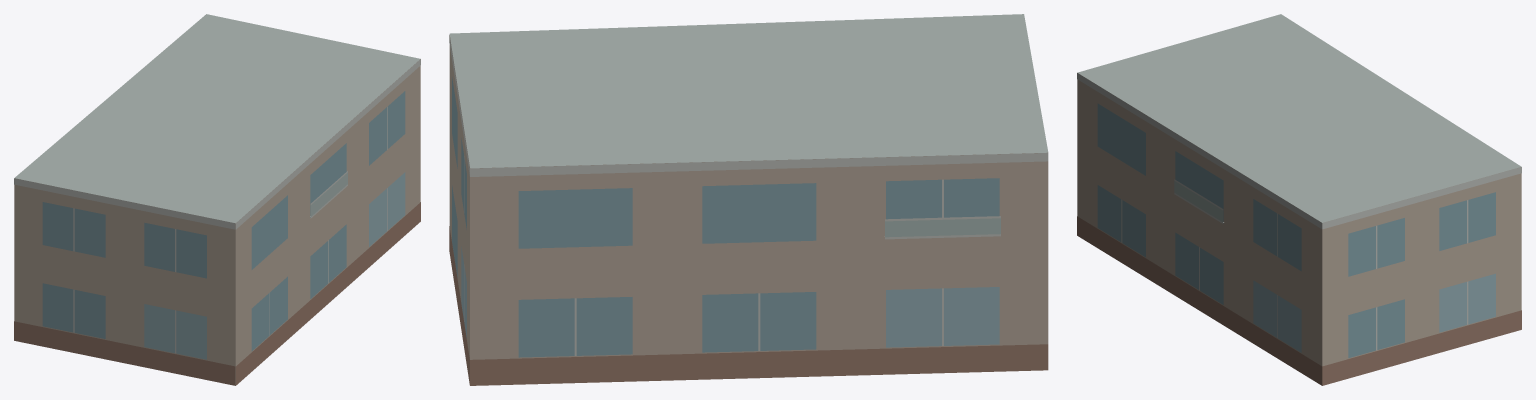
Rendered from survey-upis-33041240.glb.
3 views of the same model, side by side, from view 1: azimuth 30°, elevation 25°; view 2: azimuth 150°, elevation 25°; view 3: azimuth 270°, elevation 25° (orthographic). The views are drawn at different scales.
Visible parts, largest first — view 1: survey-upis-33041240.tmp; view 2: survey-upis-33041240.tmp; view 3: survey-upis-33041240.tmp.
Part boxes in pixels (left/top/right/bottom): survey-upis-33041240.tmp: left=14, top=14, right=420, bottom=385; survey-upis-33041240.tmp: left=449, top=14, right=1048, bottom=385; survey-upis-33041240.tmp: left=1077, top=14, right=1521, bottom=385.
Bounding box in the file's own units: 16.78 × 6.1 × 15.09.
